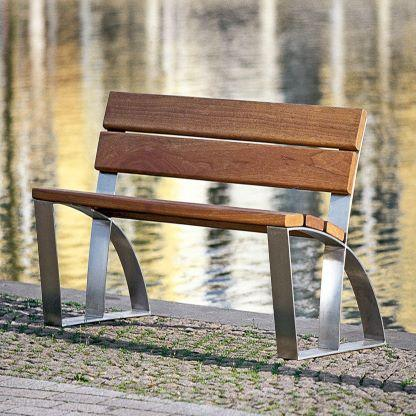obstacle: (6, 65, 396, 382)
